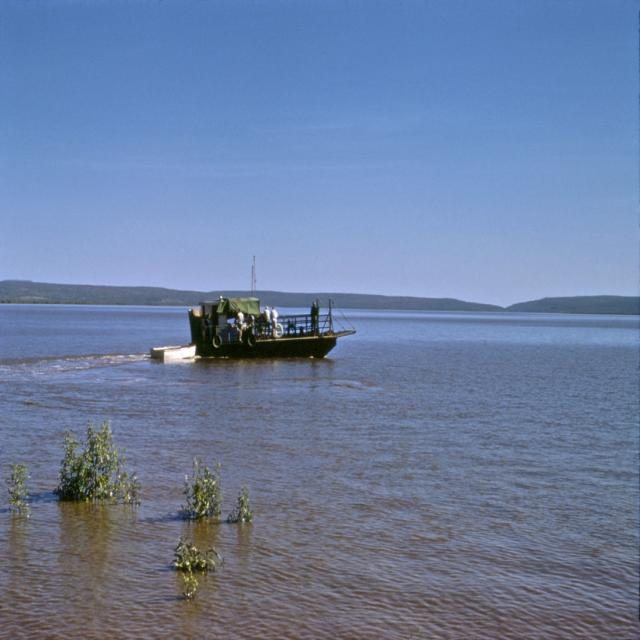fishing boat: (152, 275, 348, 363)
